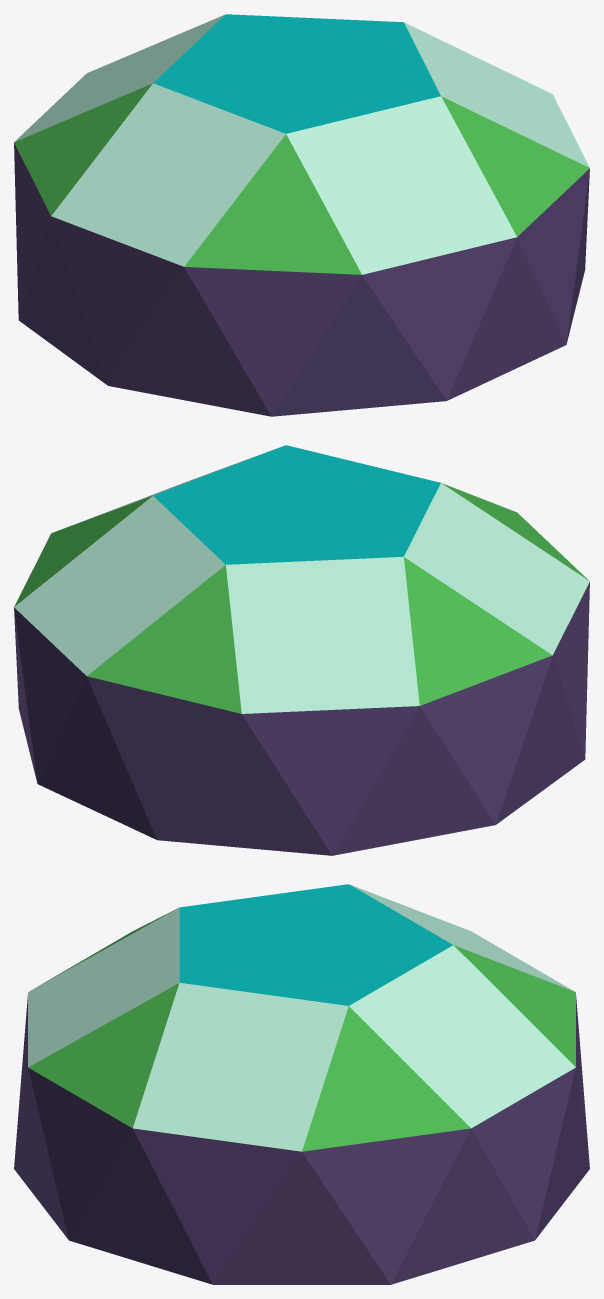
Rendered from J24.CupulaPentagonalGiroelongada.gltf.
3 views of the same model, one above another, from view 1: azimuth 30°, elevation 25°; view 2: azimuth 150°, elevation 25°; view 3: azimuth 270°, elevation 25° (orthographic).
Visible parts, largest first — view 1: J24.CupulaPentagonalGiroelongada; view 2: J24.CupulaPentagonalGiroelongada; view 3: J24.CupulaPentagonalGiroelongada.
Boxes of the visible parts, bbox=[...] form: J24.CupulaPentagonalGiroelongada: bbox=[14, 14, 589, 416]; J24.CupulaPentagonalGiroelongada: bbox=[14, 445, 589, 855]; J24.CupulaPentagonalGiroelongada: bbox=[14, 884, 589, 1284].
Size of the model in its own units: 19.33 by 8.3 by 19.33.
